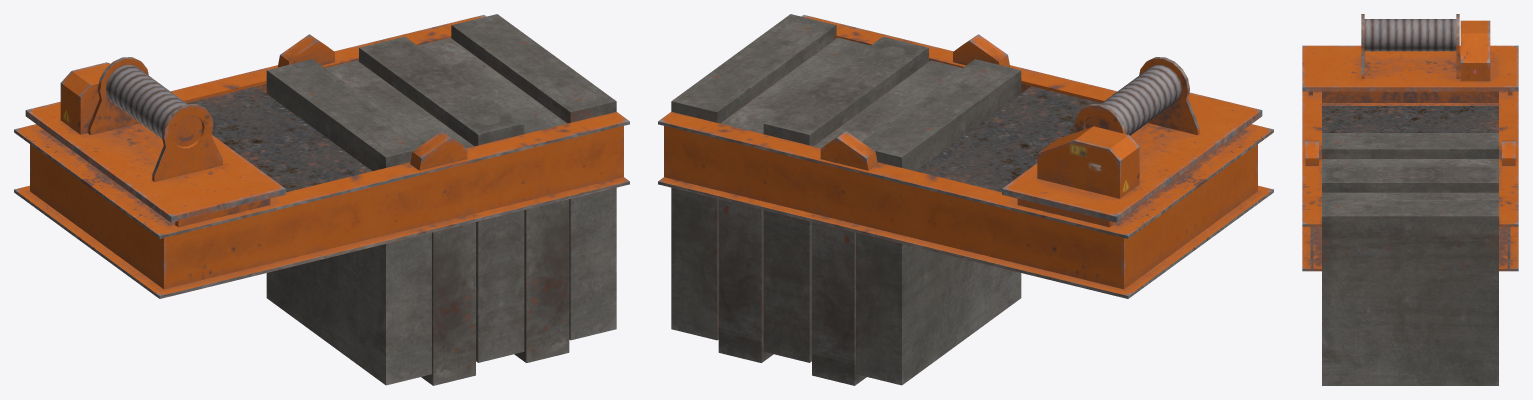
The model's file is CraneBackArmEnd.fbx.
3 renders of one model, left to right at view 1: azimuth 30°, elevation 25°; view 2: azimuth 150°, elevation 25°; view 3: azimuth 270°, elevation 25°, orthographic. The views are drawn at different scales.
Visible parts, largest first — view 1: Crane_Back_Arm_End_LOD0; view 2: Crane_Back_Arm_End_LOD0; view 3: Crane_Back_Arm_End_LOD0.
Part boxes in pixels (box(x1,y1,x2,y2)): Crane_Back_Arm_End_LOD0: box(14, 14, 629, 385); Crane_Back_Arm_End_LOD0: box(658, 14, 1273, 385); Crane_Back_Arm_End_LOD0: box(1302, 14, 1518, 385).
Size of what is drawn, in the model's own units: 4.1 by 2.62 by 2.2.
